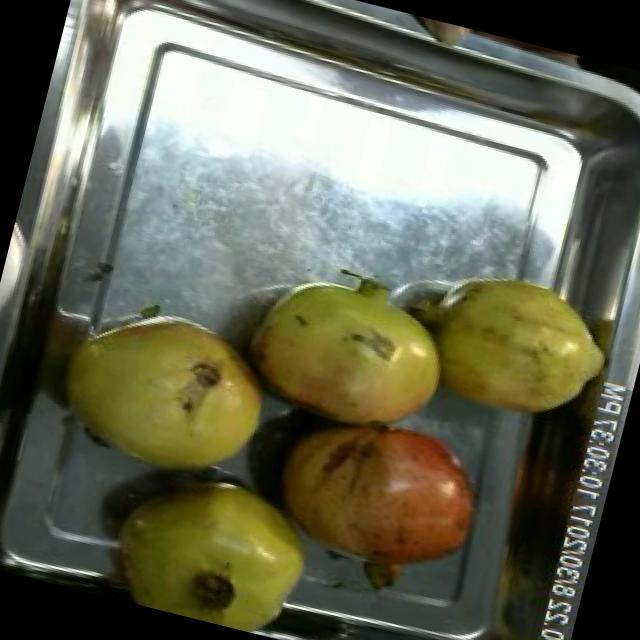fruit: (37, 279, 299, 504), (251, 388, 505, 617), (224, 236, 474, 451), (88, 443, 337, 640), (407, 250, 625, 438)
